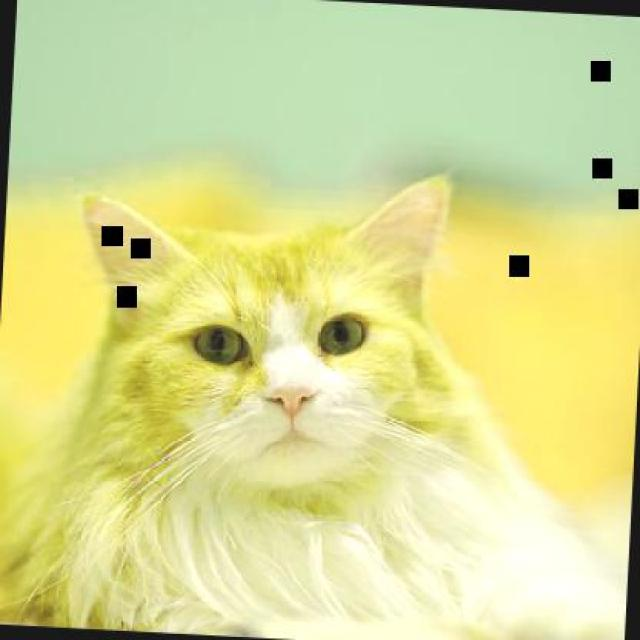cat: (21, 152, 638, 638)
